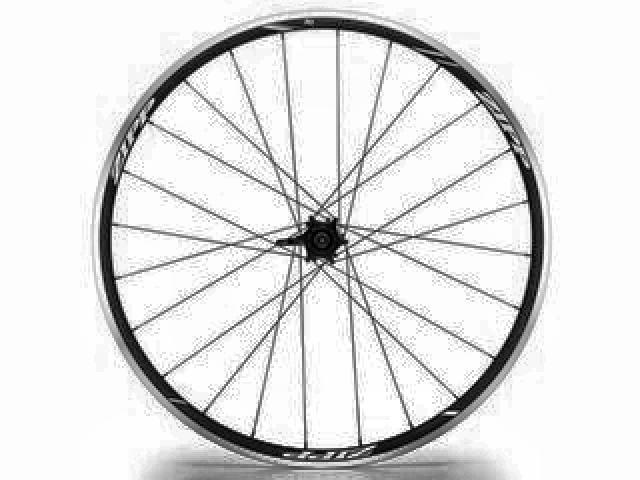wheel: (90, 8, 555, 468)
